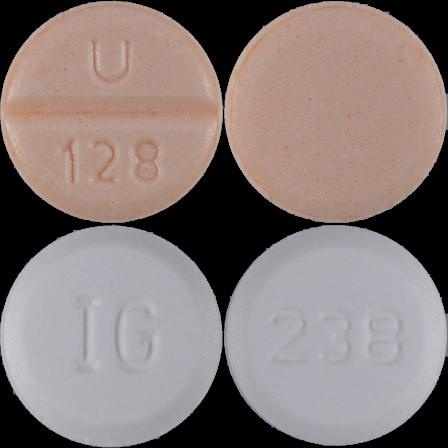61919-293: (0, 0, 224, 224)
